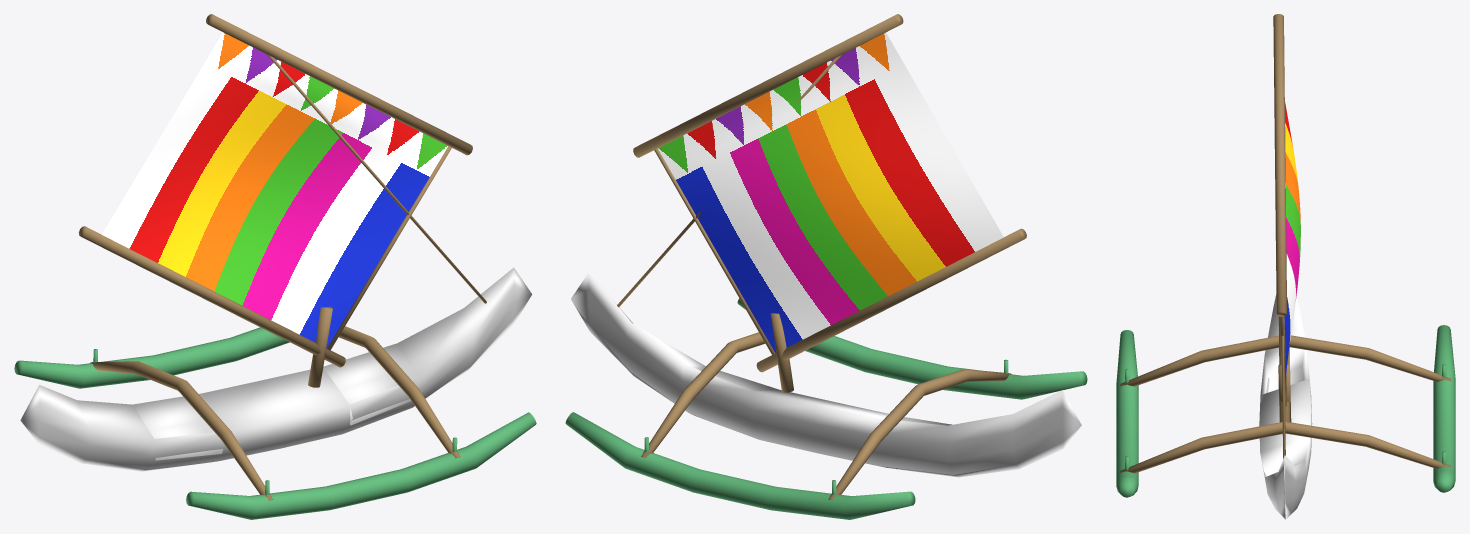
Rendered from vinta_boat_finalnatalagafinalfinal.glb.
3 renders of one model, left to right at view 1: azimuth 30°, elevation 25°; view 2: azimuth 150°, elevation 25°; view 3: azimuth 270°, elevation 25°, orthographic. The views are drawn at different scales.
Parts seen in each view (by area): view 1: Sail, Hull, Outrigger_L, Outrigger_R, Spar_Top, Spar_Bottom, CrossBeam_B, CrossBeam_F, Stay, Luff, Mast; view 2: Sail, Hull, Outrigger_R, Outrigger_L, Spar_Top, Spar_Bottom, CrossBeam_B, CrossBeam_F, Luff, Mast, Stay; view 3: Hull, CrossBeam_F, CrossBeam_B, Spar_Top, Outrigger_R, Outrigger_L, Sail, Stay.
Boxes of the visible parts, x1,y1,x2,y2 form: Sail: (102,32,448,348); Hull: (20,267,532,471); Outrigger_L: (186,412,536,519); Outrigger_R: (14,327,289,388); Spar_Top: (206,14,472,155); Spar_Bottom: (78,226,345,367); CrossBeam_B: (90,361,273,500); CrossBeam_F: (339,326,460,458); Stay: (267,54,486,303); Luff: (327,146,451,350); Mast: (308,306,332,387); Sail: (658,32,1003,353); Hull: (571,272,1081,477); Outrigger_R: (565,412,915,519); Outrigger_L: (737,298,1087,399); Spar_Top: (633,14,903,157); Spar_Bottom: (756,228,1026,372); CrossBeam_B: (828,369,1011,500); CrossBeam_F: (641,332,765,457); Luff: (654,148,775,355); Mast: (770,313,793,392); Stay: (617,55,841,307); Hull: (1259,293,1312,519); CrossBeam_F: (1120,421,1451,473); CrossBeam_B: (1120,335,1451,386); Spar_Top: (1273,14,1287,316); Outrigger_R: (1433,325,1455,492); Outrigger_L: (1116,330,1138,497); Sail: (1284,102,1300,374); Stay: (1281,335,1285,458).
Size of the model in its own units: 4.64 by 3.94 by 2.89.
4 materials, 1 textured.
